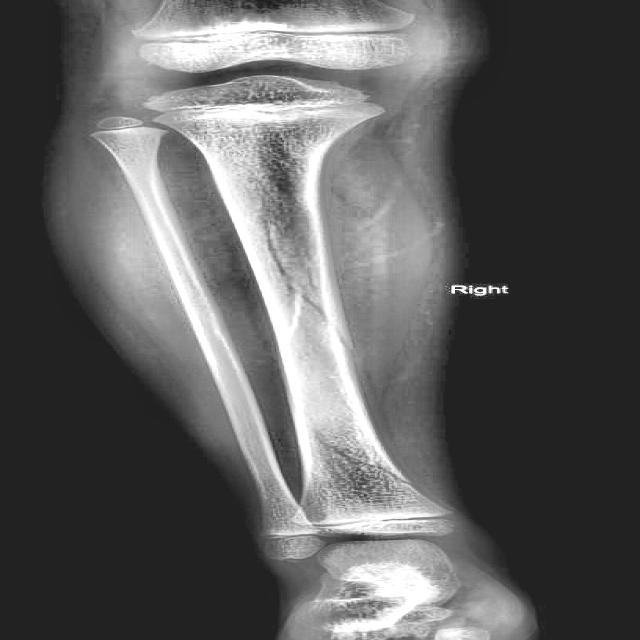line: (259, 220, 350, 350), (308, 434, 412, 484)
